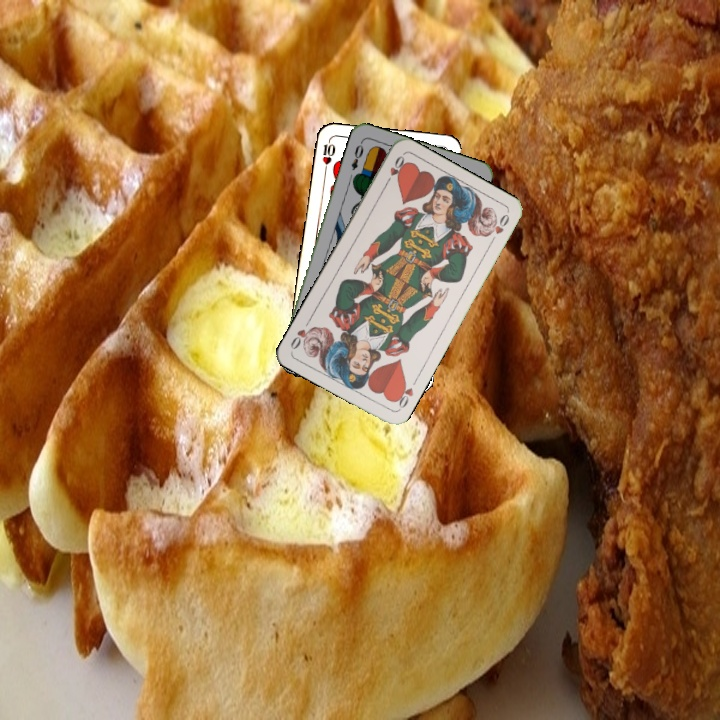EO: (347, 137, 366, 173)
H10: (318, 135, 336, 175)
HO: (381, 151, 407, 188), (390, 378, 416, 412)
